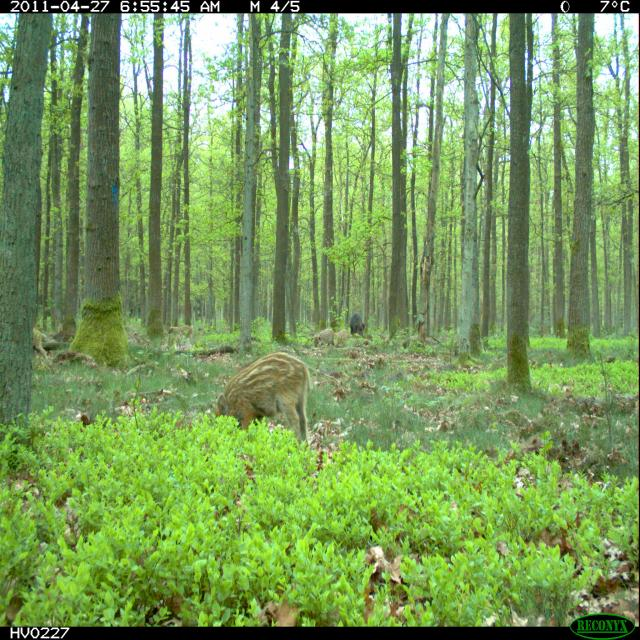boar: (195, 327, 327, 454)
